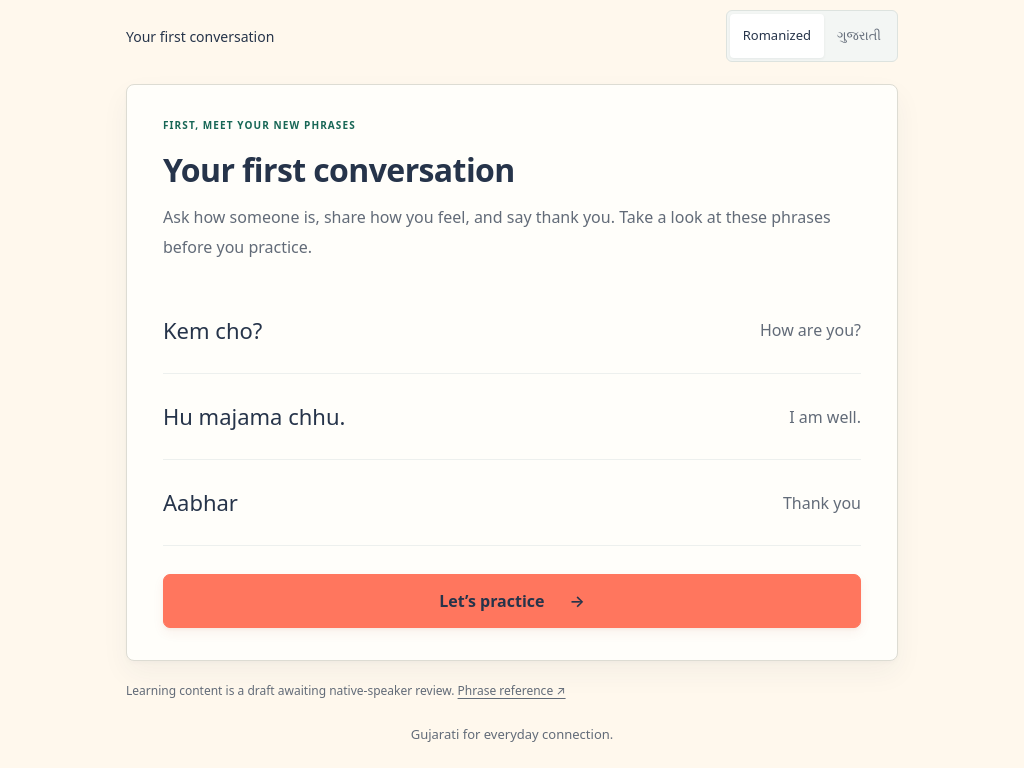
Test case: missed question review › locks an answer after a failed submission and safely retries the same answer
This screenshot has width=1024, height=768.
(page scrolled)
What coordinates should you click on to do the following:
click the button "Let’s practice →"
I would click on:
 (512, 602)
Its box is x1=163 y1=574 x2=861 y2=628.
(page scrolled)
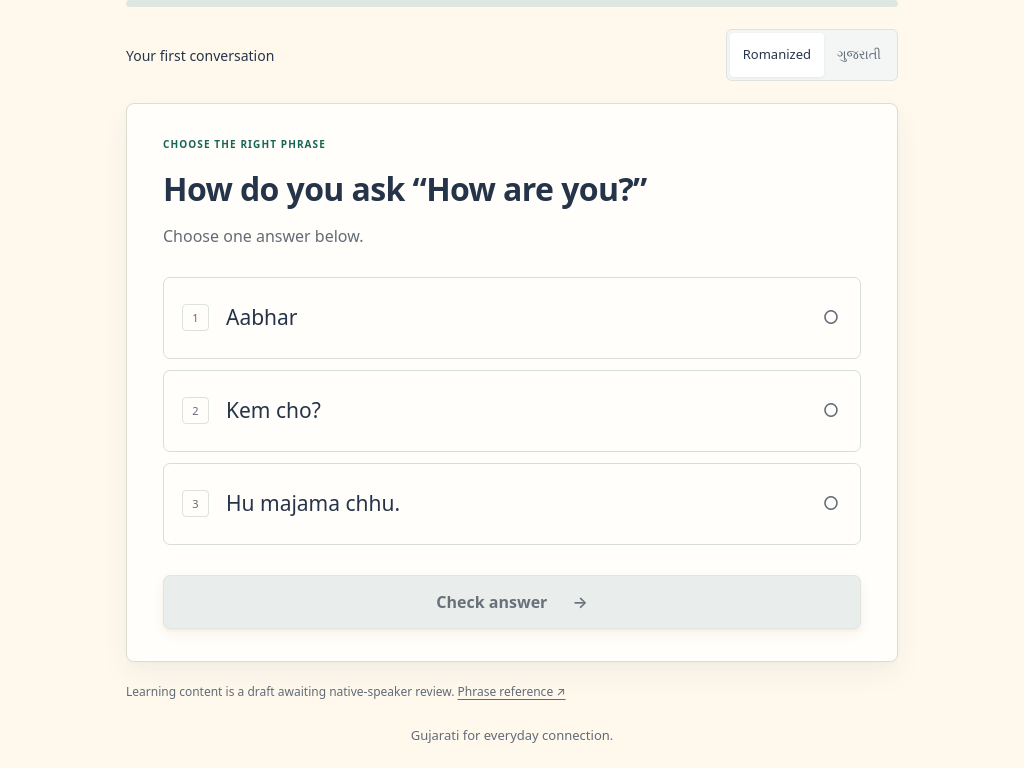
What coordinates should you click on to do the following:
click the radio button labelled "2 Kem cho? ○"
I would click on:
 (273, 410)
Its box is x1=163 y1=370 x2=861 y2=452.
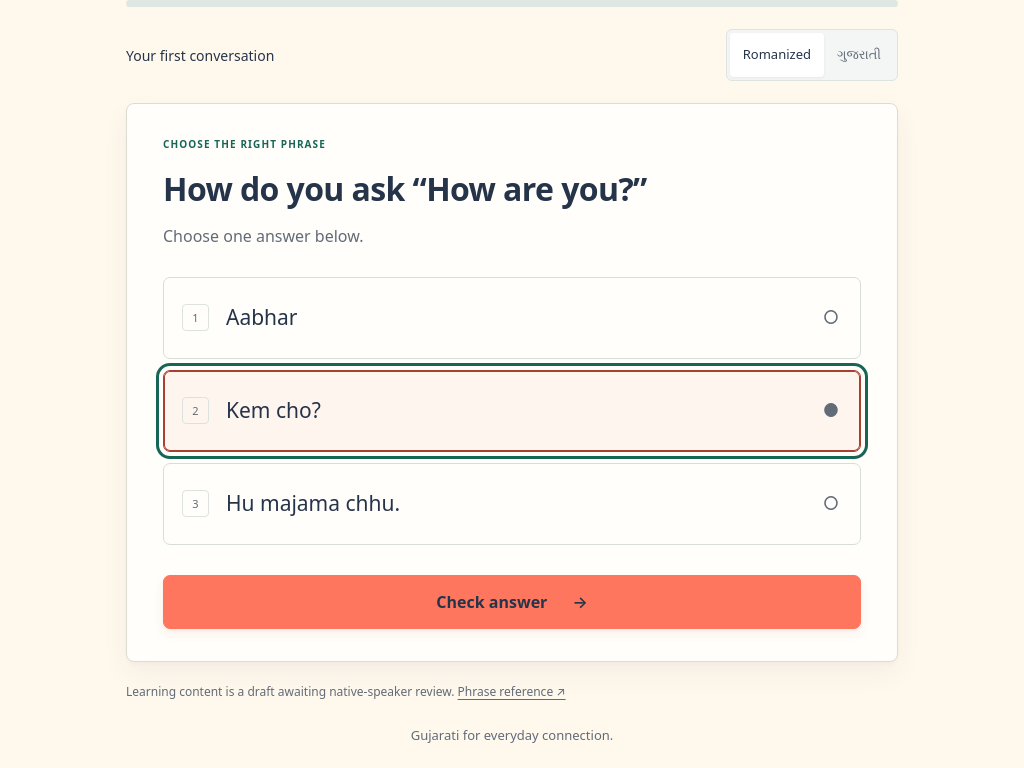
What coordinates should you click on to do the following:
click the button "Check answer →"
I would click on:
 (512, 602)
Its box is x1=163 y1=575 x2=861 y2=629.
(page scrolled)
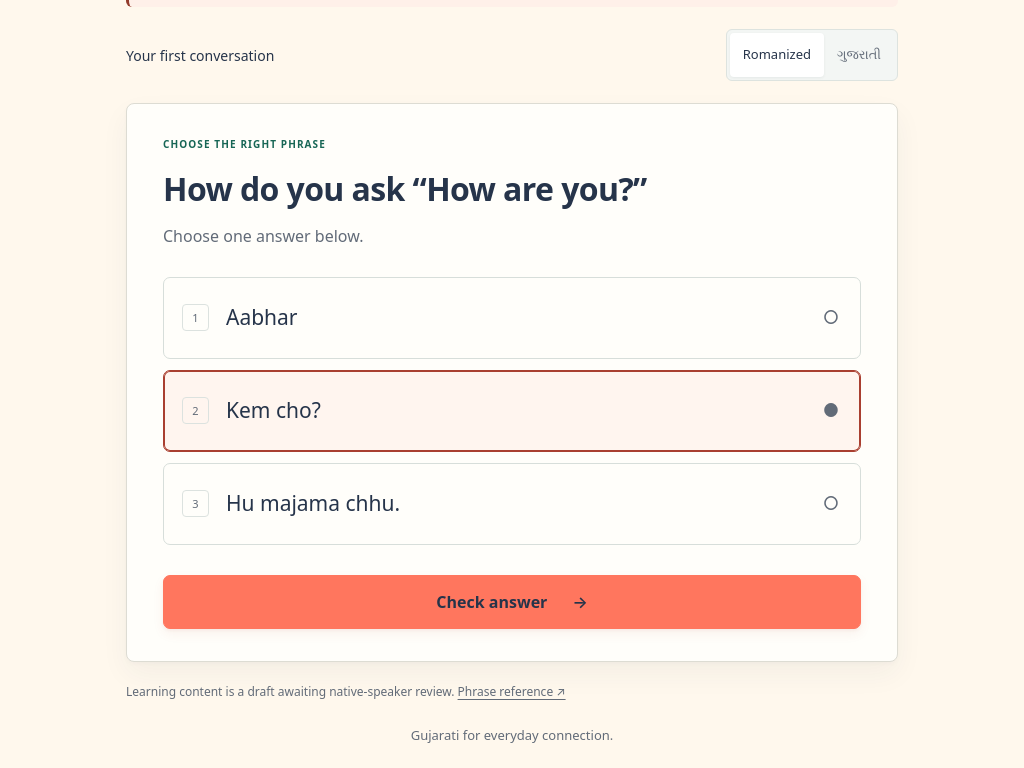
Now the element "1 Aabhar ○ 2 Kem cho? ● 3 Hu majama chhu. ○" is disabled, box x1=163 y1=277 x2=861 y2=545
What coordinates should you click on to do the following:
click the button "Check answer →"
I would click on:
 (512, 602)
Its box is x1=163 y1=575 x2=861 y2=629.
(page scrolled)
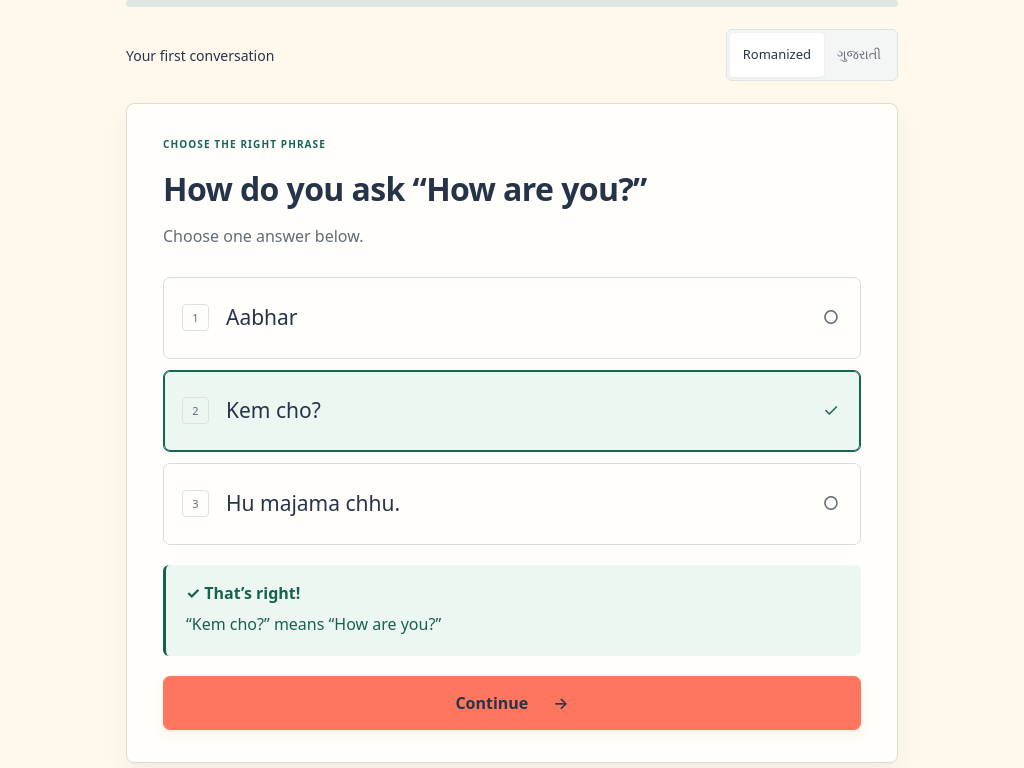
Now the text "✓ That’s right!" is shown, box x1=186 y1=582 x2=300 y2=604
